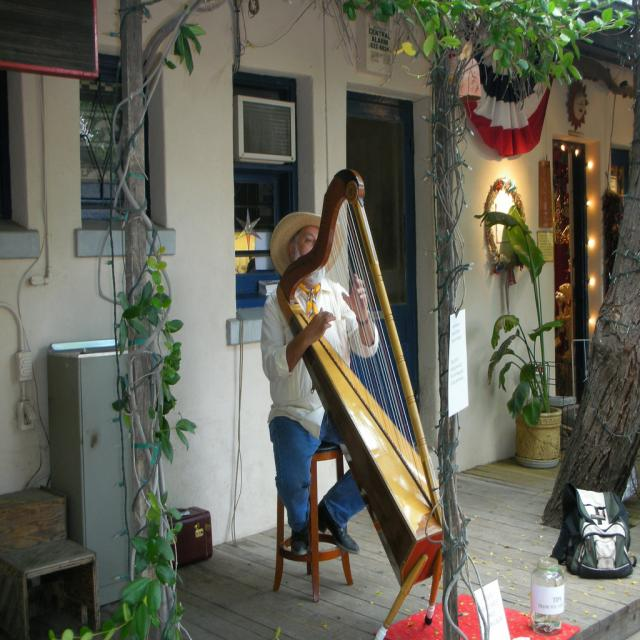harp: (274, 166, 469, 638)
